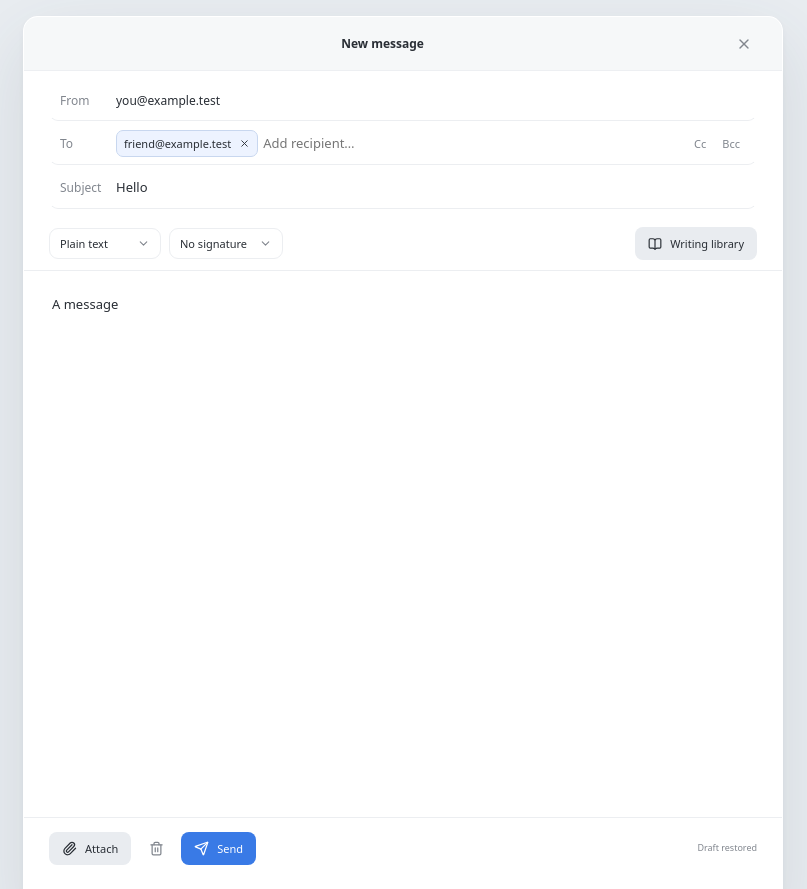
Test: real Outlook composer › keeps the window open when closing cannot save the draft
Click the button named "Close compose". click: (744, 44)
box: [729,28,759,58]
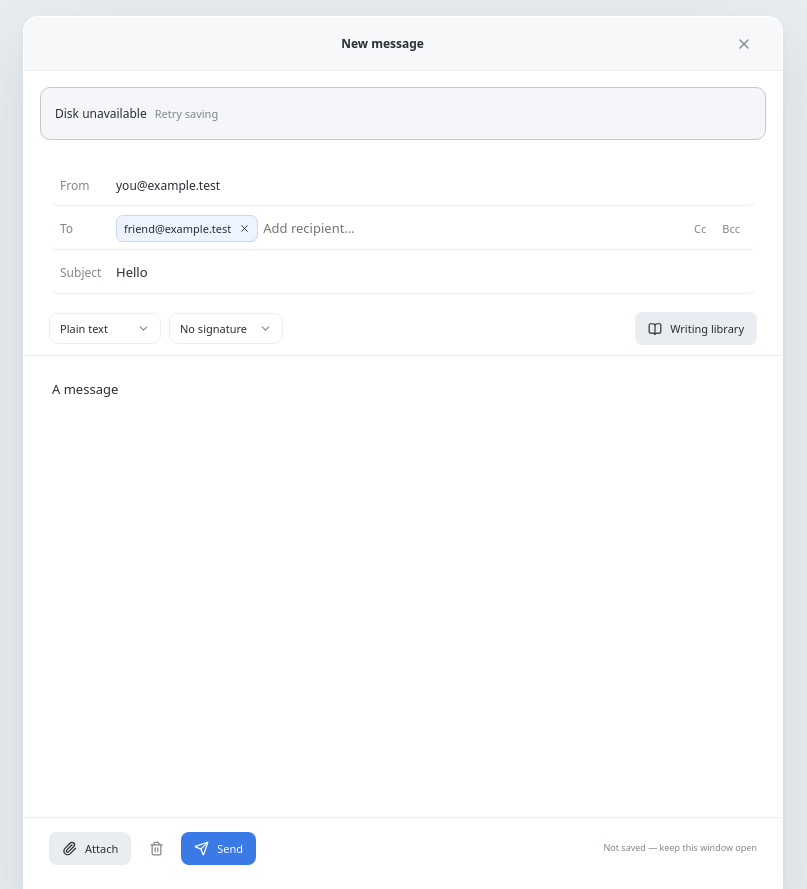
Expected: the text "Not saved" is shown, [604,841,757,854]
